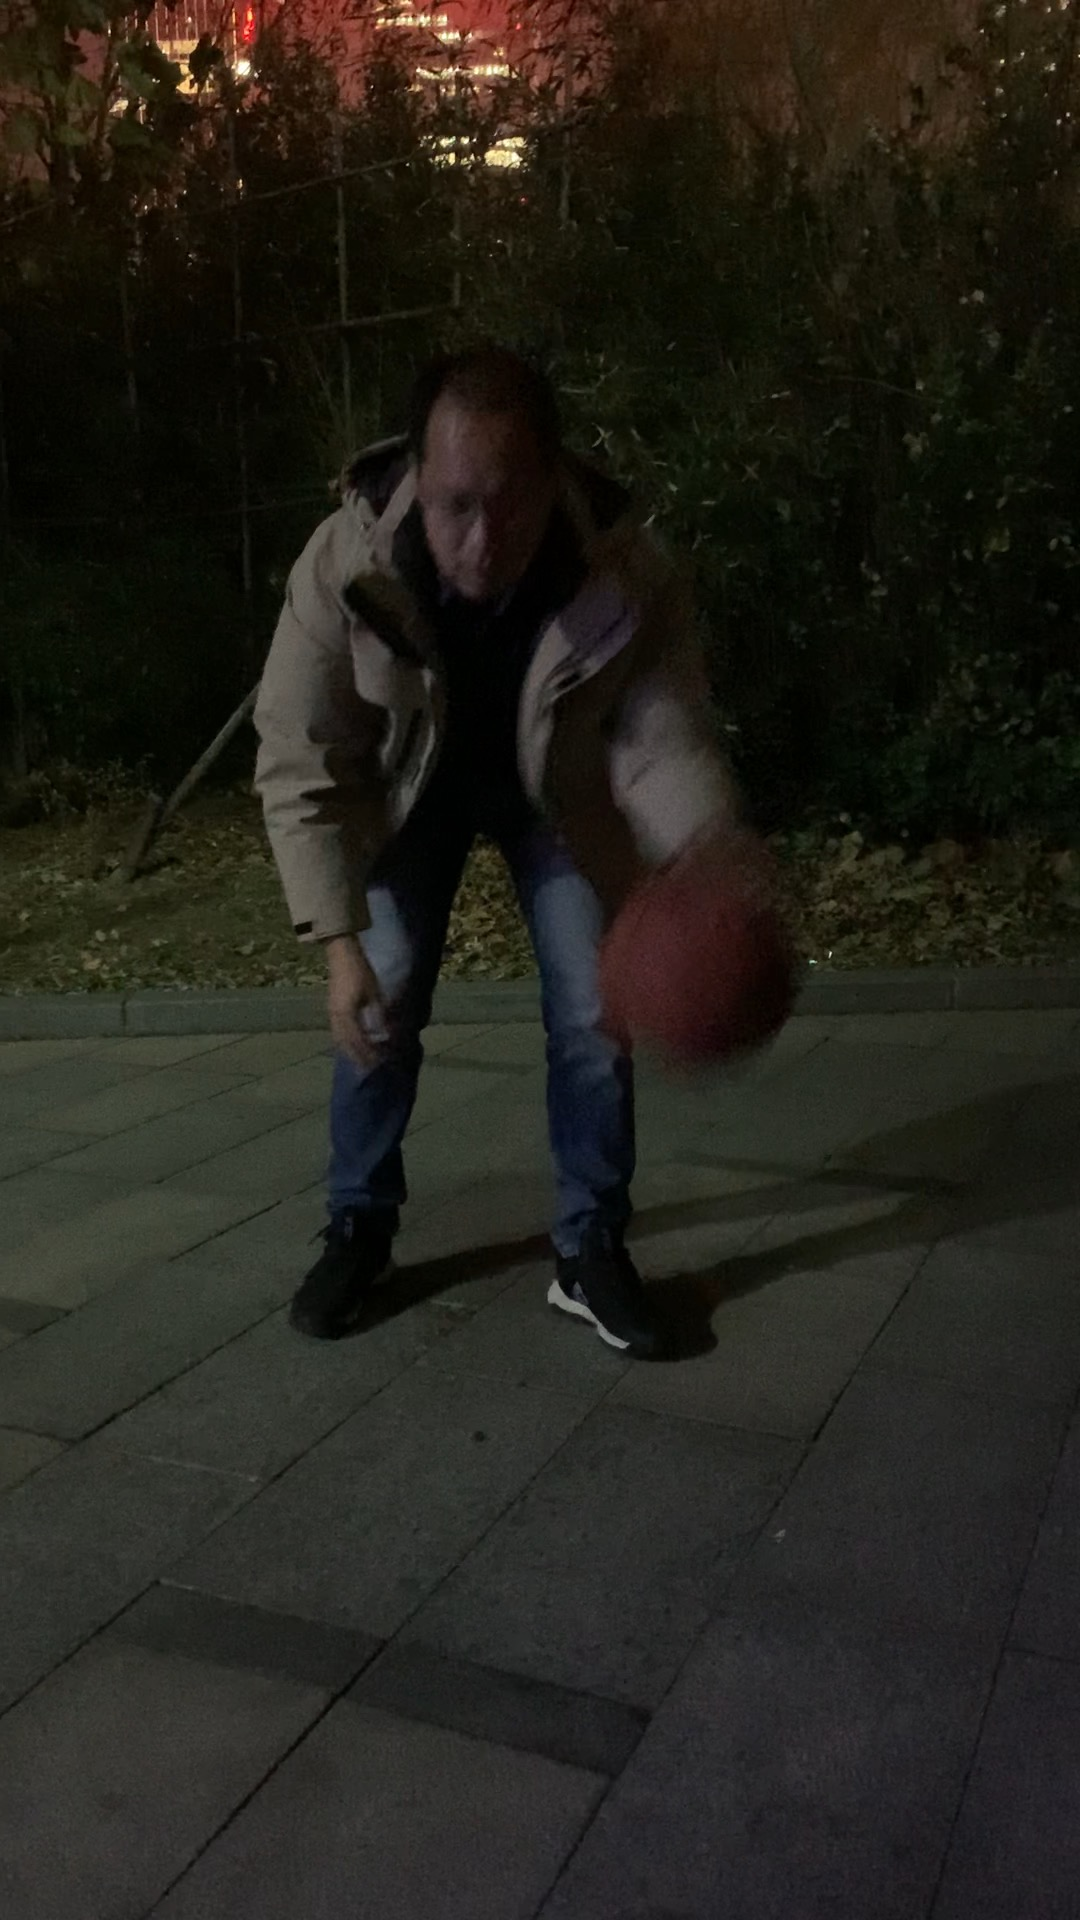ball: (605, 874, 807, 1073)
